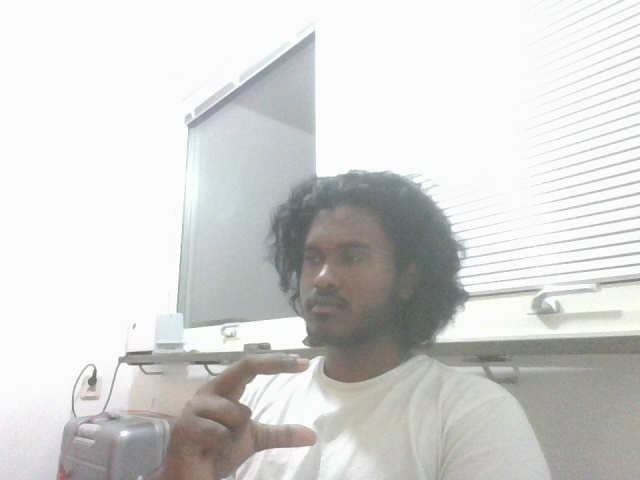no: (158, 344, 339, 480)
